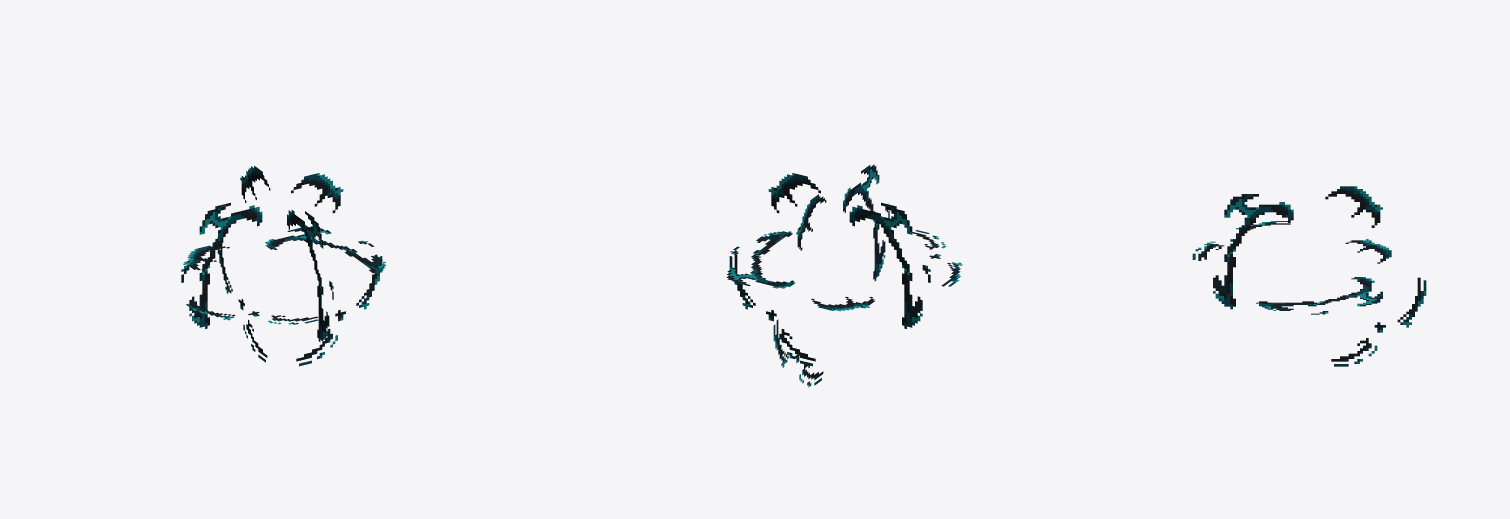
The model's file is vfx_gale_dash_11.gltf.
The picture shows the model from 3 angles, left to right: view 1: azimuth 30°, elevation 25°; view 2: azimuth 150°, elevation 25°; view 3: azimuth 270°, elevation 25°; orthographic projection. The views are drawn at different scales.
Parts seen in each view (by area): view 1: cube (×3); view 2: cube (×3); view 3: cube (×2).
Boxes of the visible parts, x1,y1,x2,y2 form: cube (×3): (181,165,386,366); cube (×3): (726,164,962,387); cube (×2): (1192,186,1426,366).
Bounding box in the file's own units: 2.06 × 2.06 × 2.06.
Materials: 1 (1 with a texture image).
